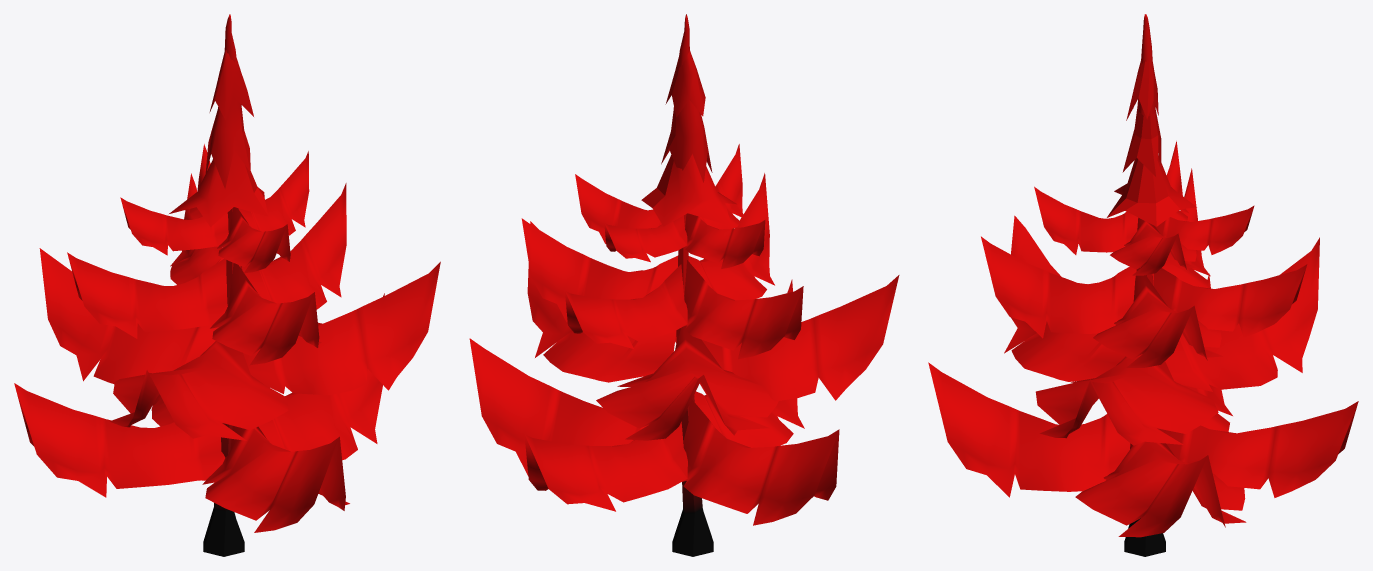
Rendered from Tree.fbx.
3 views of the same model, side by side, from view 1: azimuth 30°, elevation 25°; view 2: azimuth 150°, elevation 25°; view 3: azimuth 270°, elevation 25° (orthographic).
Parts seen in each view (by area): view 1: MESH_TRONC1; view 2: MESH_TRONC1; view 3: MESH_TRONC1.
Part boxes in pixels (<box>): MESH_TRONC1: <box>14,14,440,556</box>; MESH_TRONC1: <box>469,14,899,556</box>; MESH_TRONC1: <box>928,14,1358,556</box>.
Bounding box in the file's own units: 6.66 × 9.13 × 6.65.
